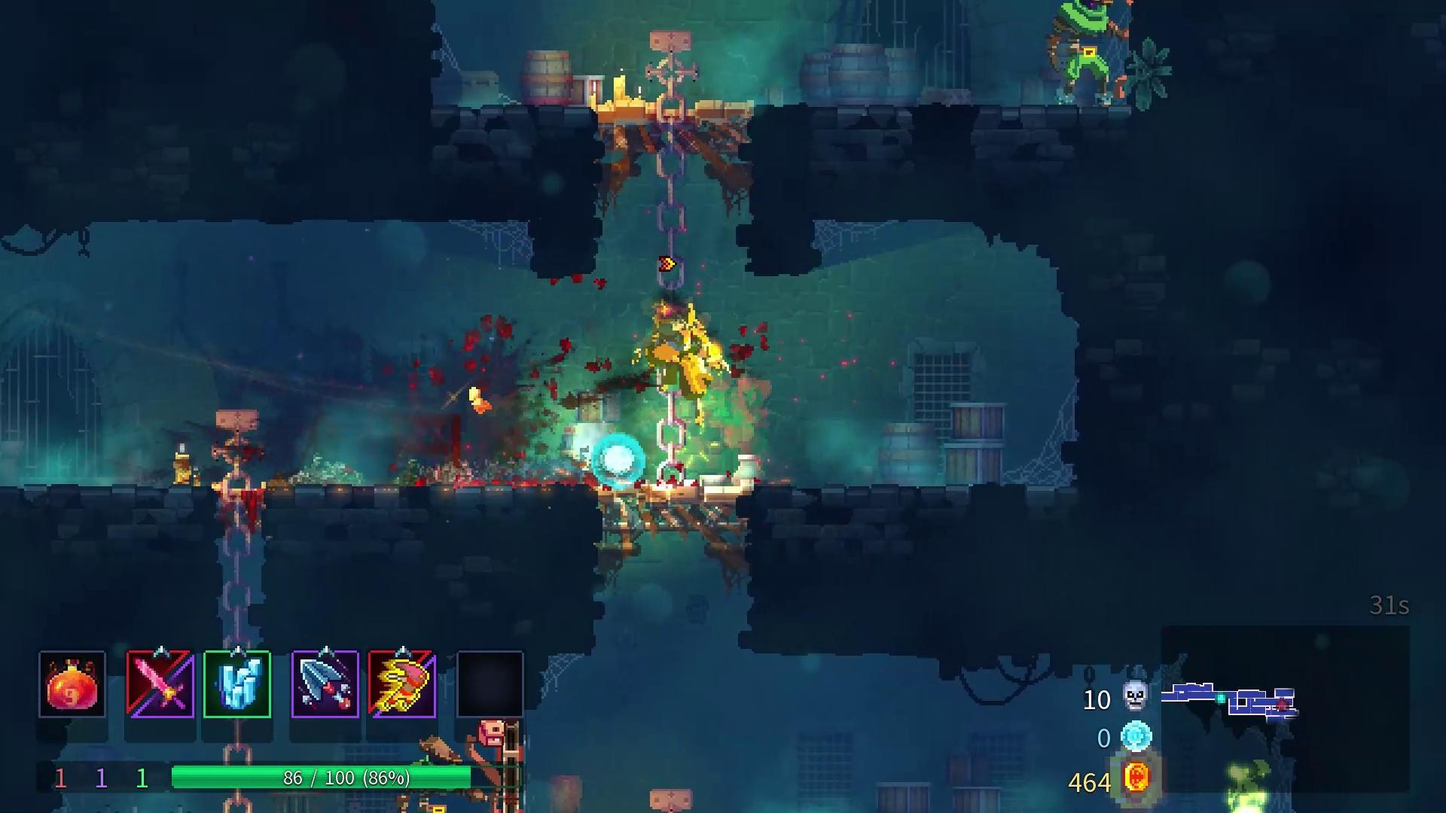gamer: (639, 273, 736, 409)
